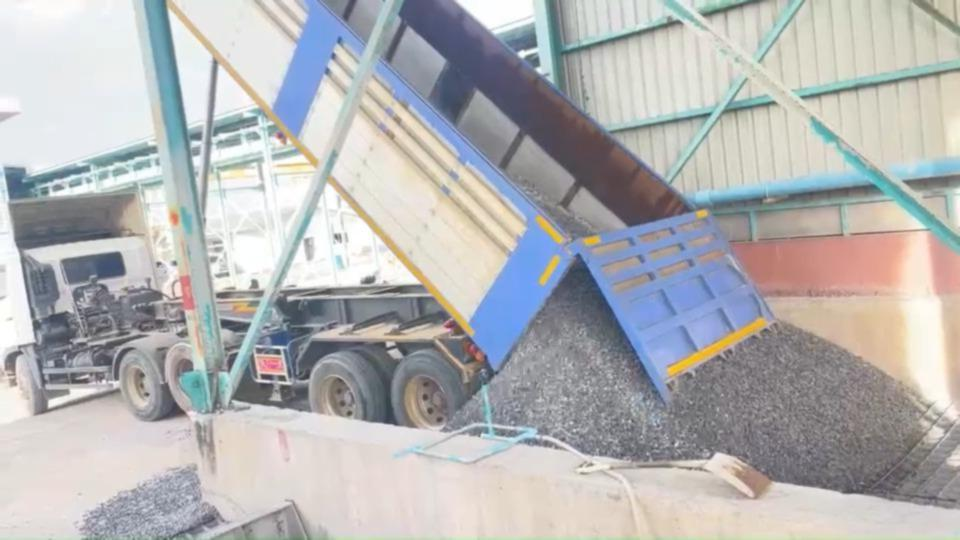gravel: (489, 262, 925, 491), (78, 465, 219, 538), (449, 394, 482, 428)
